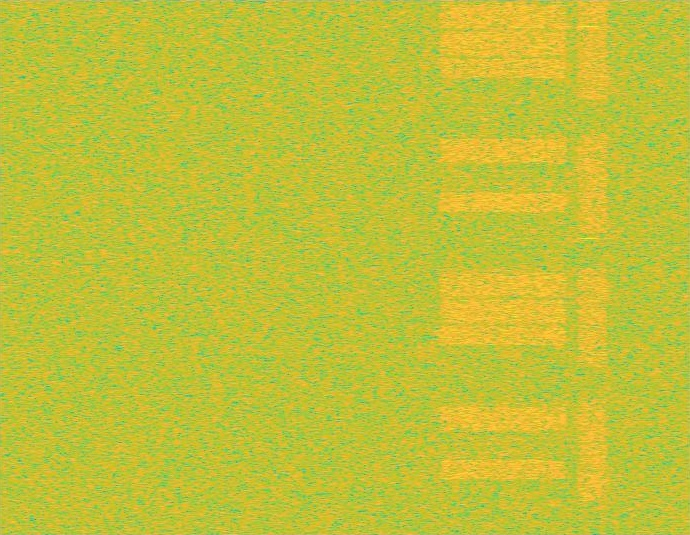5G: (576, 0, 610, 534)
LTE: (434, 0, 572, 534)
Radar: (582, 0, 596, 534)
